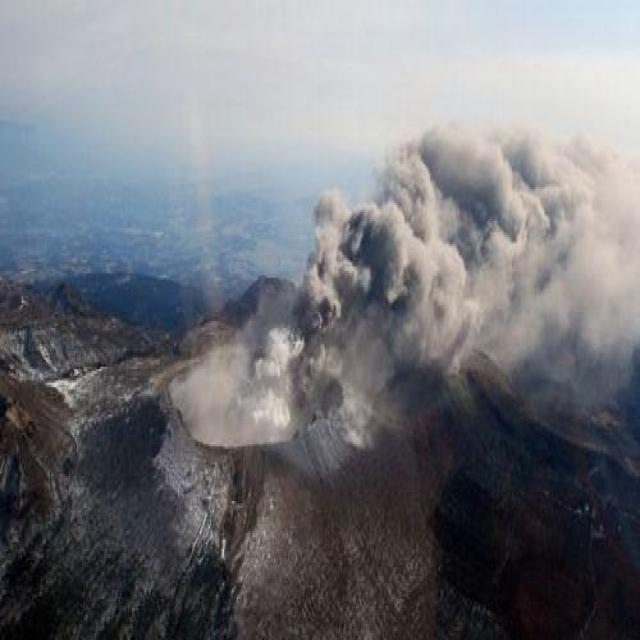Smoke: (167, 116, 640, 448)
